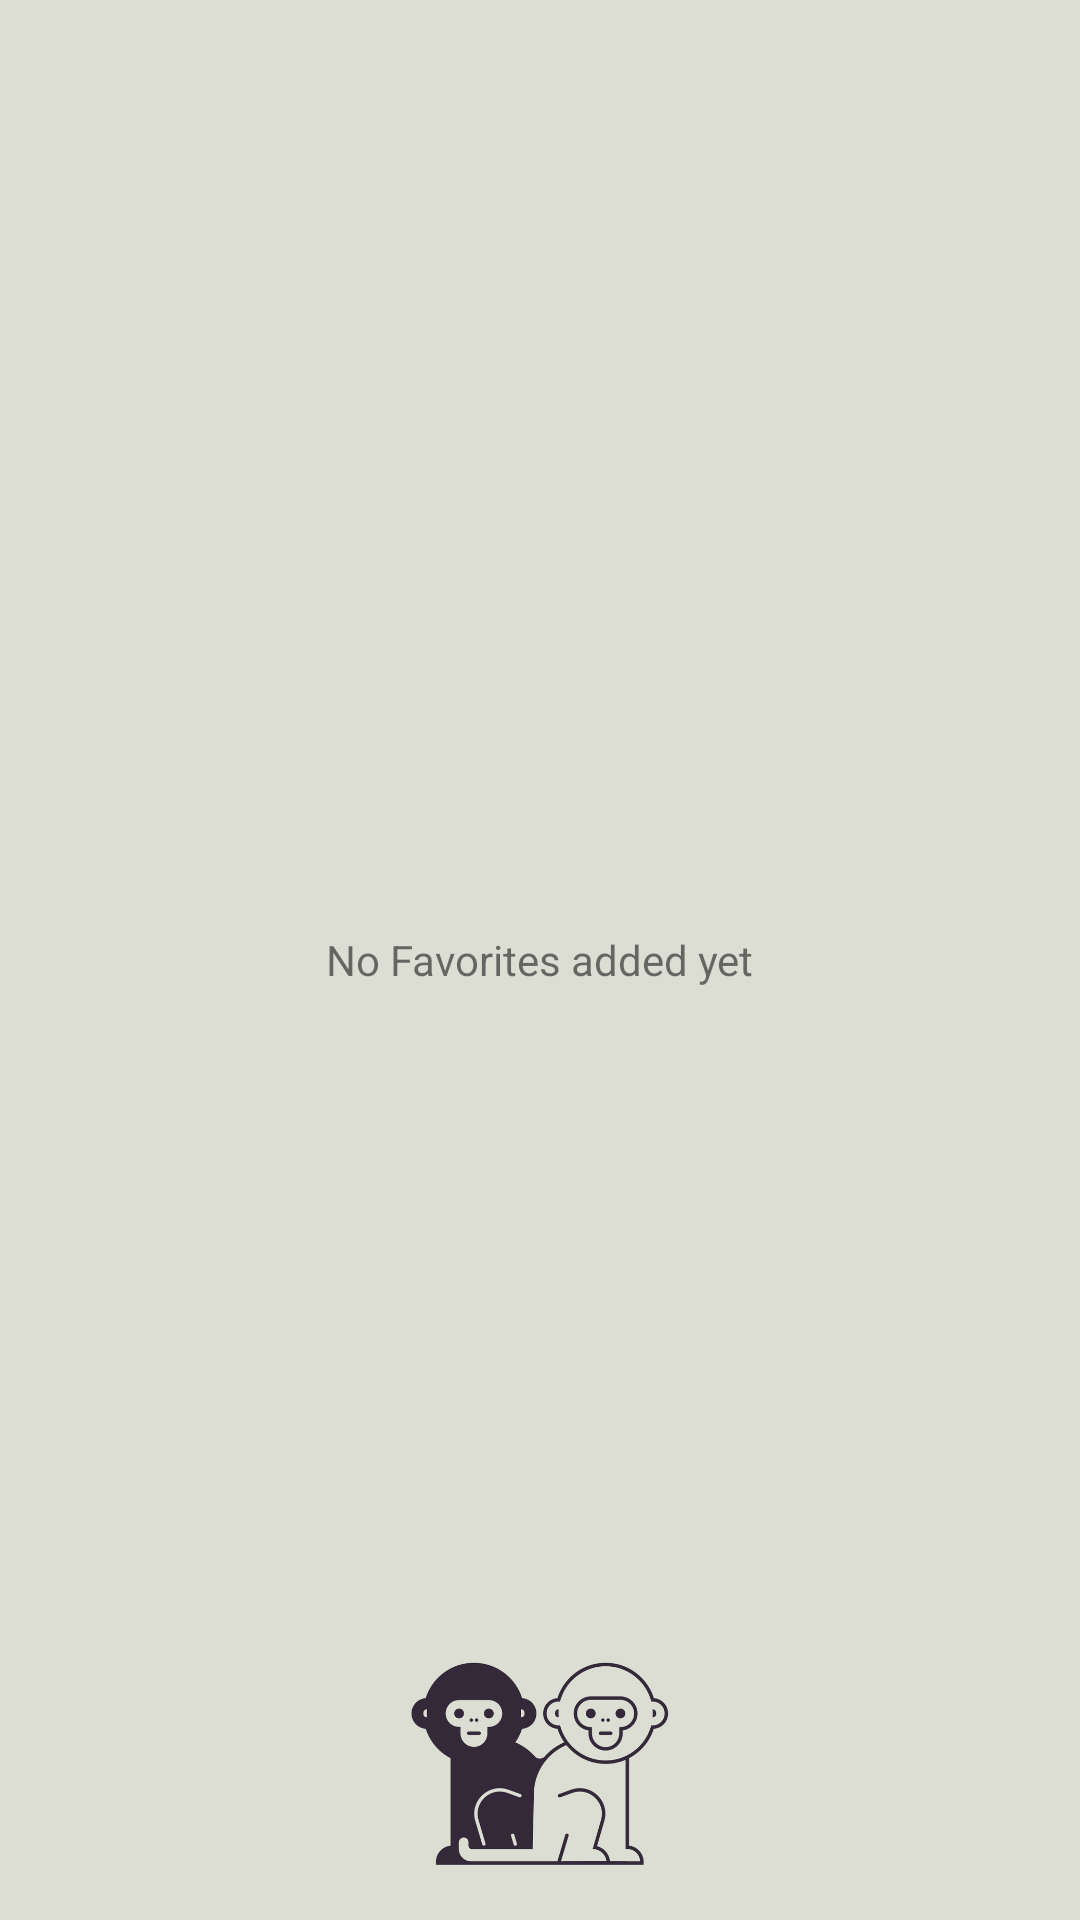

Icons on this 1080×1920 Android screen, each with its box as detection(x1, y1, x2, y2):
monkeys: detection(411, 1663, 668, 1865)
